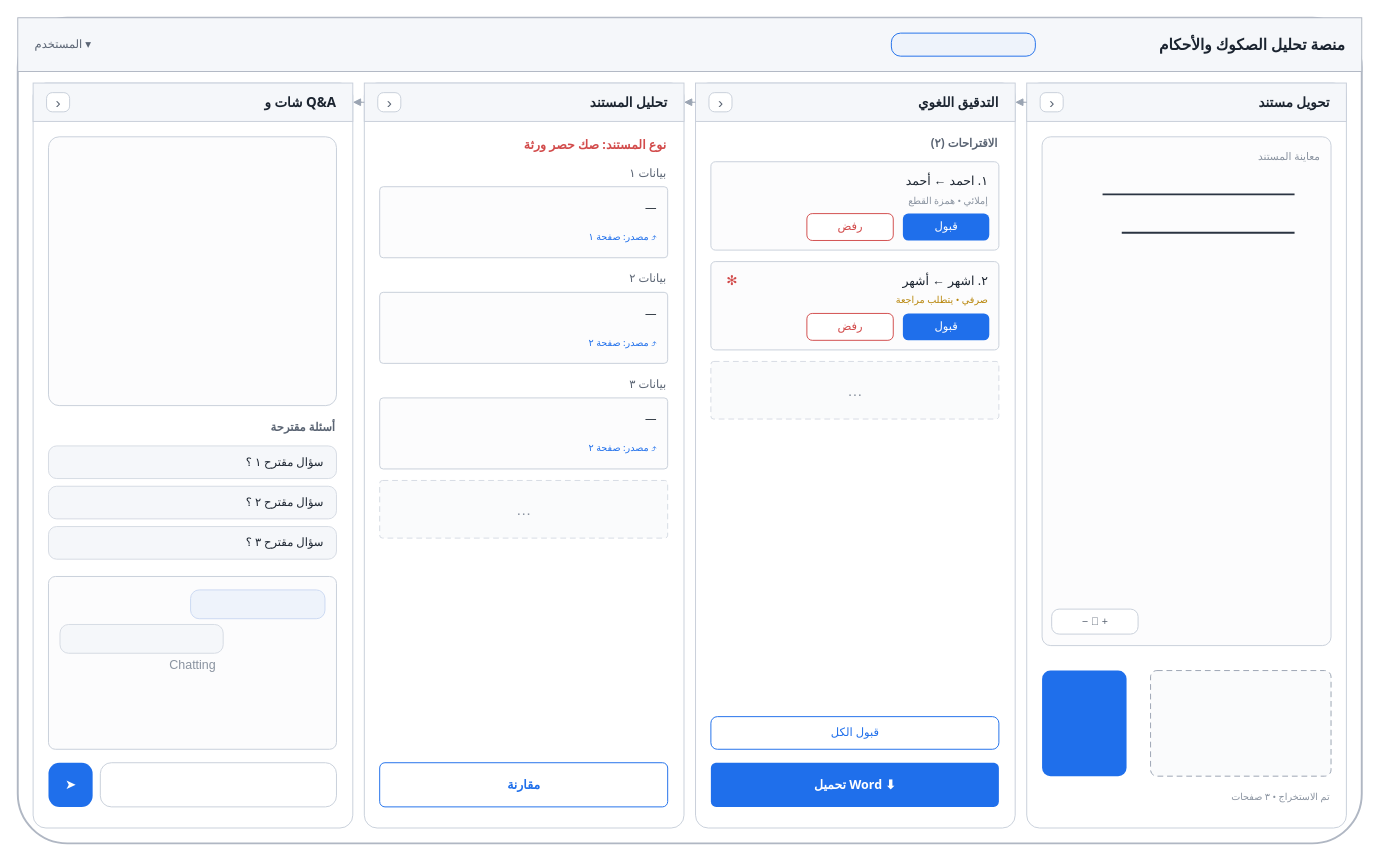
Some shapes in this 1379 by 860 pixel diagram are drawn without their labels. The shapes that lost their labels are listed below. From the top down, each one's centre as x and y in pixels, then its label:
At (x=962, y=44): "صك_ملكية_1446.pdf".
At (x=192, y=271): "ملخص المستند / السياق".
At (x=1084, y=723): "رفع ↑".
At (x=1240, y=723): "اسحب الملف هنا PDF / صورة".
At (x=217, y=784): "اكتب سؤالك…".
